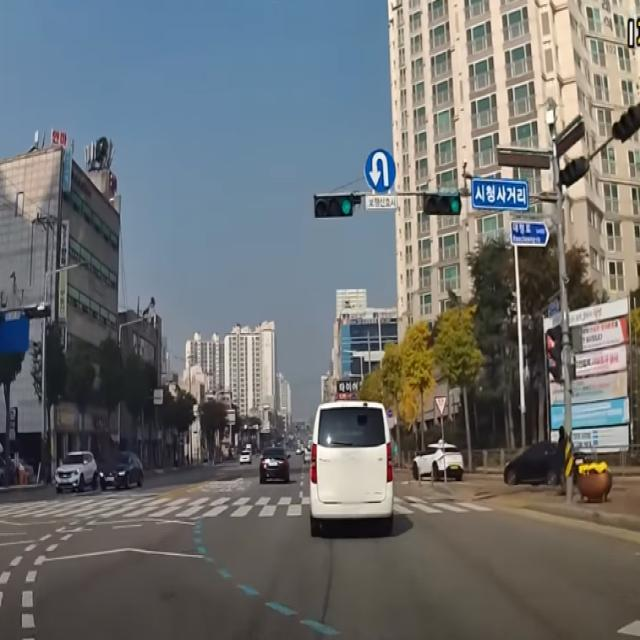Green Light: (339, 197, 352, 217), (448, 195, 460, 214)
